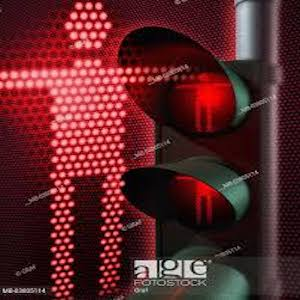red: (16, 3, 129, 285), (180, 73, 225, 124), (174, 174, 220, 222)
